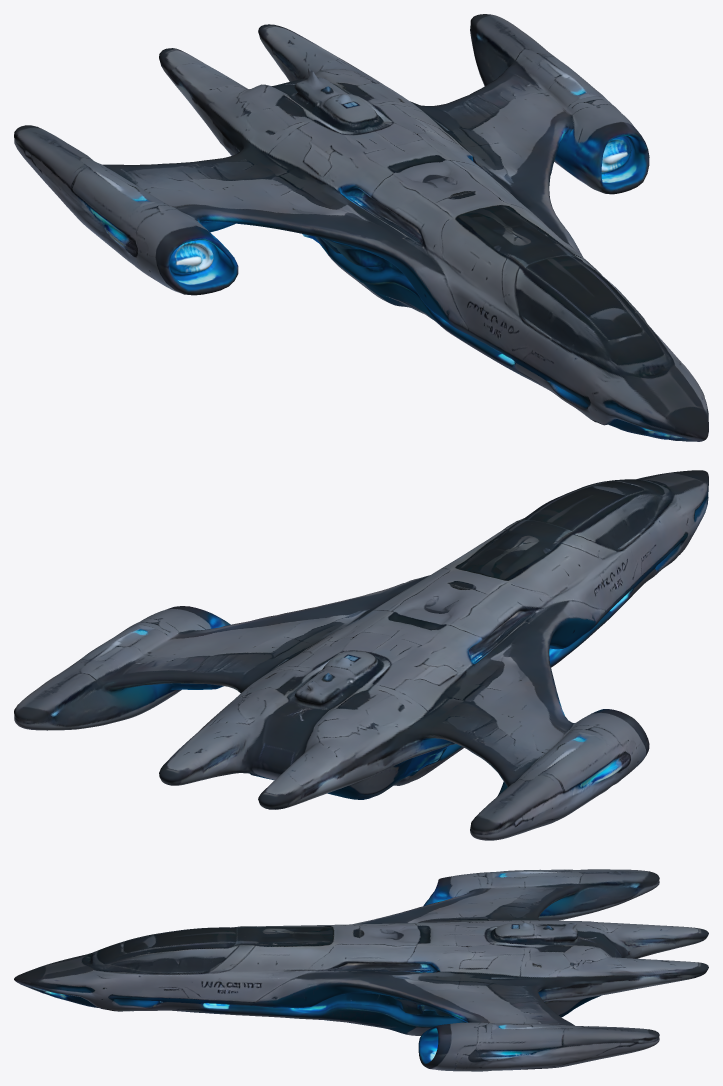
Rendered from alliance_courier.glb.
The picture shows the model from 3 angles, top to bottom: view 1: azimuth 30°, elevation 25°; view 2: azimuth 150°, elevation 25°; view 3: azimuth 270°, elevation 25°; orthographic projection. The views are drawn at different scales.
Visible parts, largest first — view 1: model; view 2: model; view 3: model.
Boxes of the visible parts, x1=… form: model: x1=14, y1=14, x2=708, y2=441; model: x1=14, y1=470, x2=708, y2=840; model: x1=14, y1=869, x2=708, y2=1071.
Bounding box in the file's own units: 1.11 × 0.3117 × 1.89.
1 material, 1 textured.
